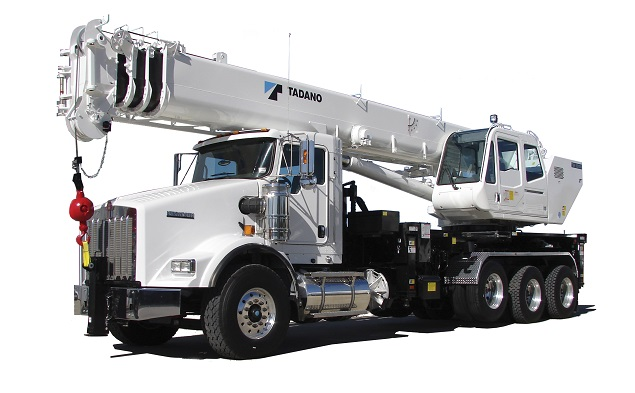crane: (53, 37, 598, 355)
